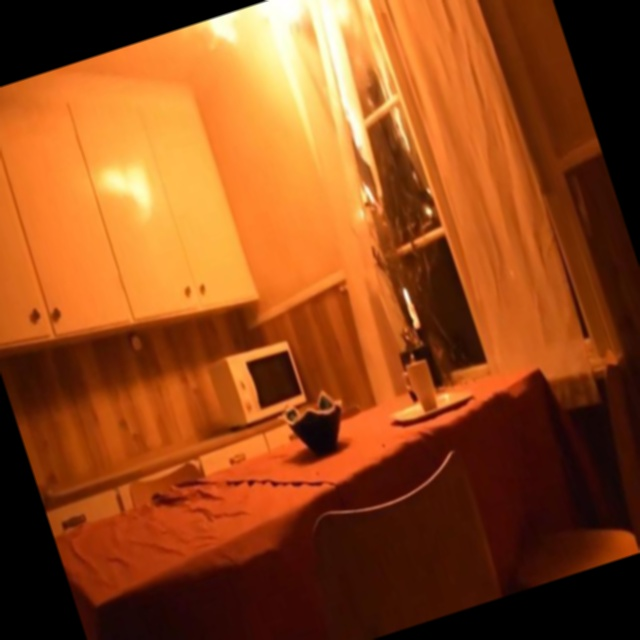fire: (190, 0, 422, 185)
